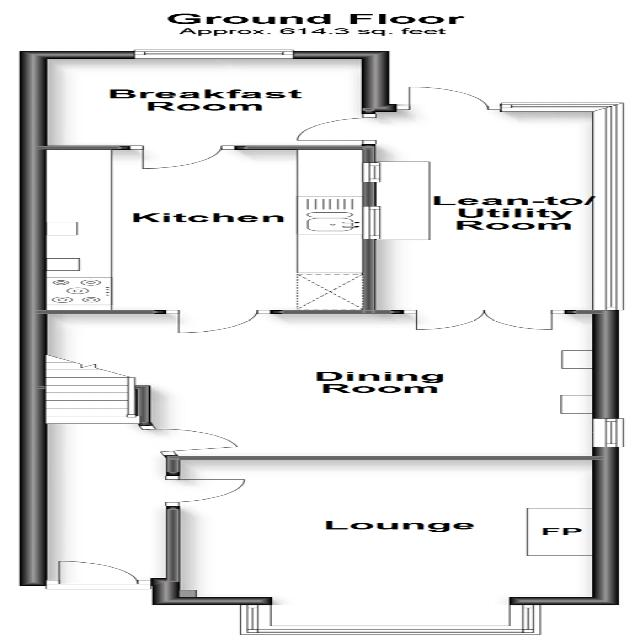DOOR: (39, 559, 156, 590), (138, 424, 241, 456), (393, 86, 501, 112), (162, 309, 273, 334), (294, 113, 377, 145), (127, 145, 237, 169), (165, 475, 247, 507)
DOUBLE DOOR: (401, 310, 568, 330)
ROOM: (17, 309, 625, 460), (150, 455, 621, 635), (18, 145, 382, 334), (17, 49, 390, 170)
WINDOW: (499, 102, 626, 310), (237, 604, 543, 635), (131, 48, 296, 59), (590, 418, 626, 447), (361, 206, 382, 239), (360, 162, 382, 182)
